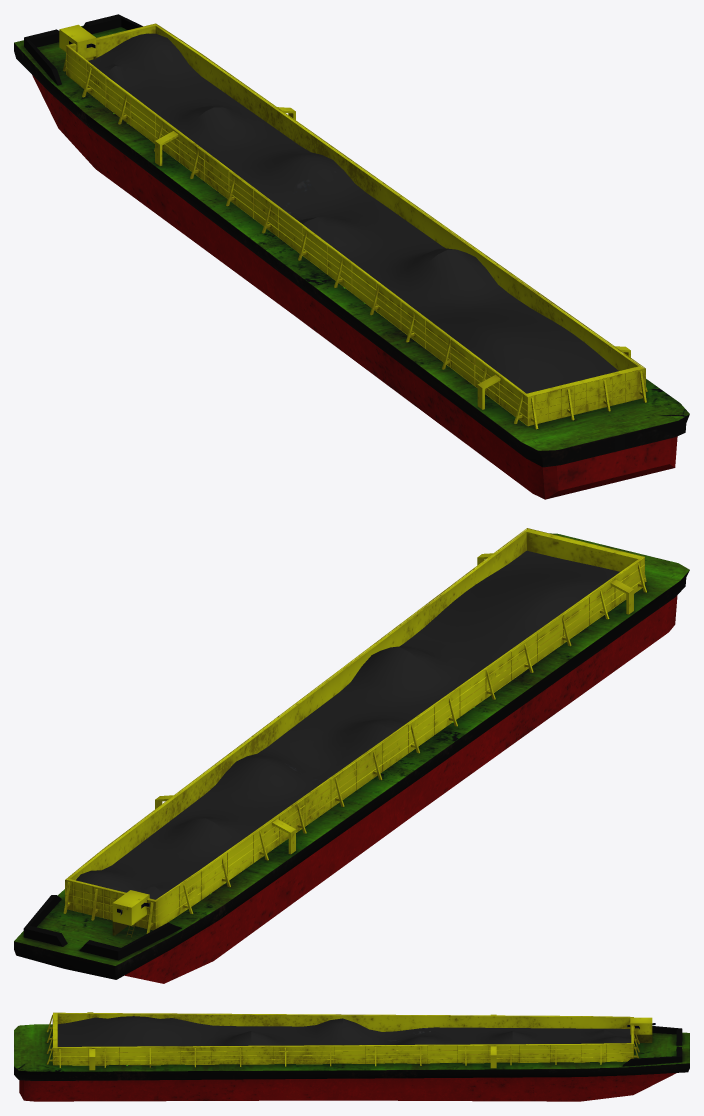
File: barge.glb
3 views of the same model, one above another, from view 1: azimuth 30°, elevation 25°; view 2: azimuth 150°, elevation 25°; view 3: azimuth 270°, elevation 25° (orthographic). The views are drawn at different scales.
Visible parts, largest first — view 1: kapal_tongkang_fix; view 2: kapal_tongkang_fix; view 3: kapal_tongkang_fix.
Part boxes in pixels (<box>): kapal_tongkang_fix: <box>14,14,689,499</box>; kapal_tongkang_fix: <box>14,528,689,983</box>; kapal_tongkang_fix: <box>14,1012,689,1101</box>.
Bounding box in the file's own units: 14.95 × 8.65 × 90.04.
Materials: 2 (2 with a texture image).
